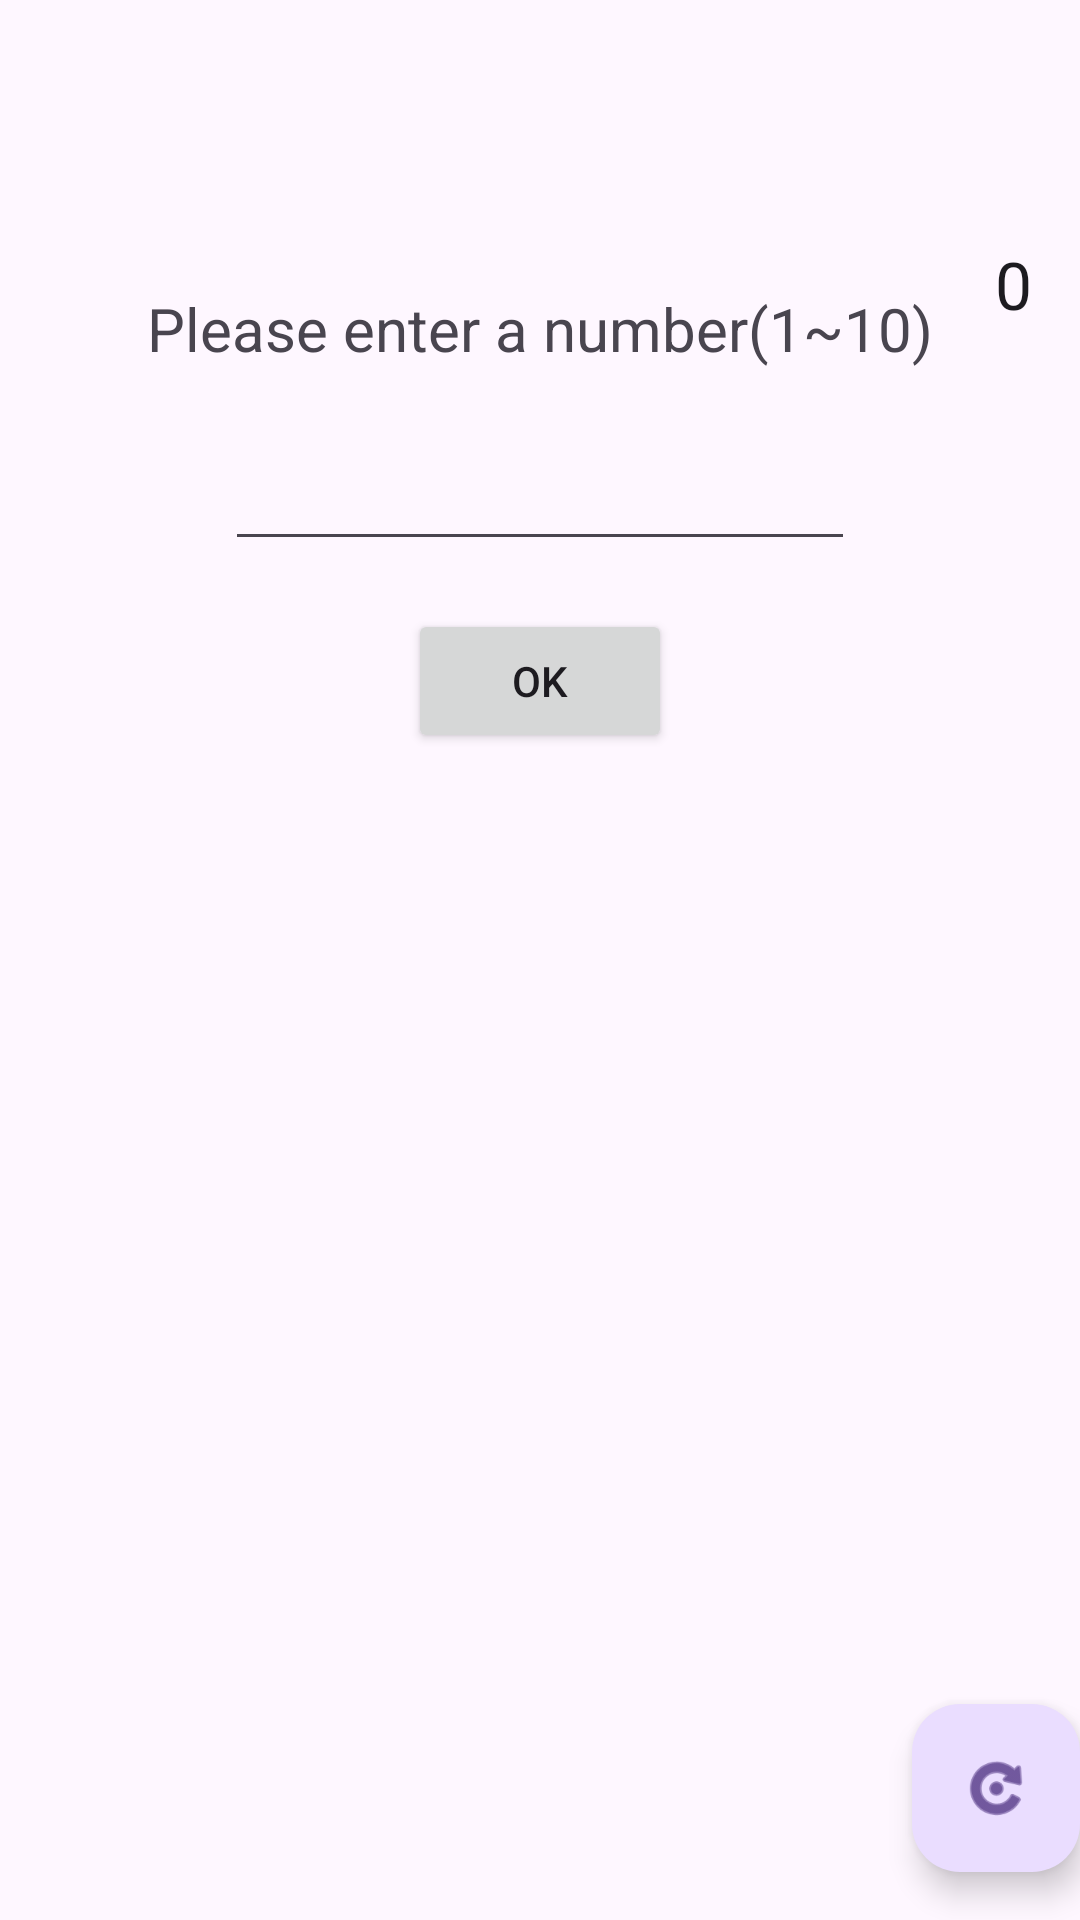

Where icons sit on this 1080px×1920px app screen, as [left=x1, top=y1, right=x2, bottom=y2]:
rotate: [left=912, top=1704, right=1080, bottom=1872]
